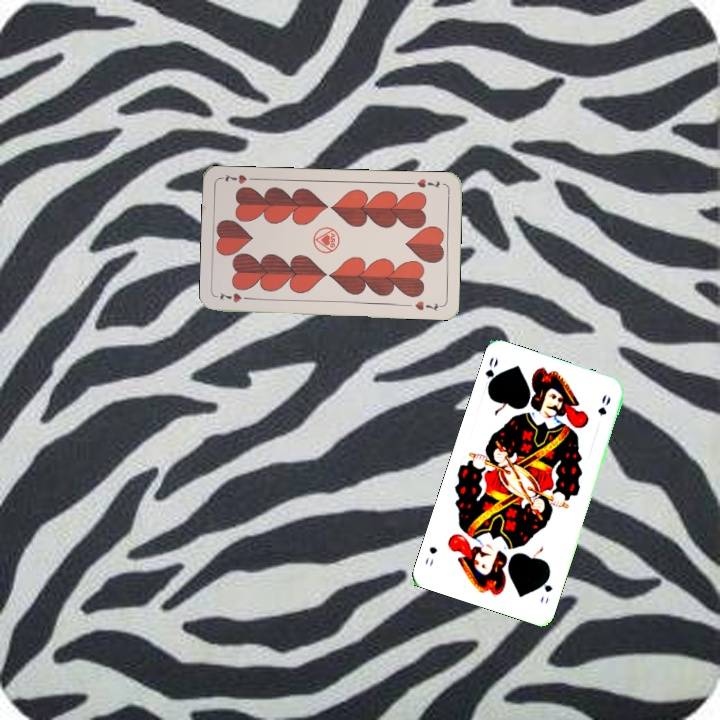GO: (481, 353, 502, 394), (536, 570, 555, 607)
H7: (406, 175, 442, 191), (216, 290, 254, 305)
